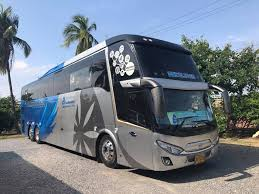bus: (19, 33, 221, 172)
